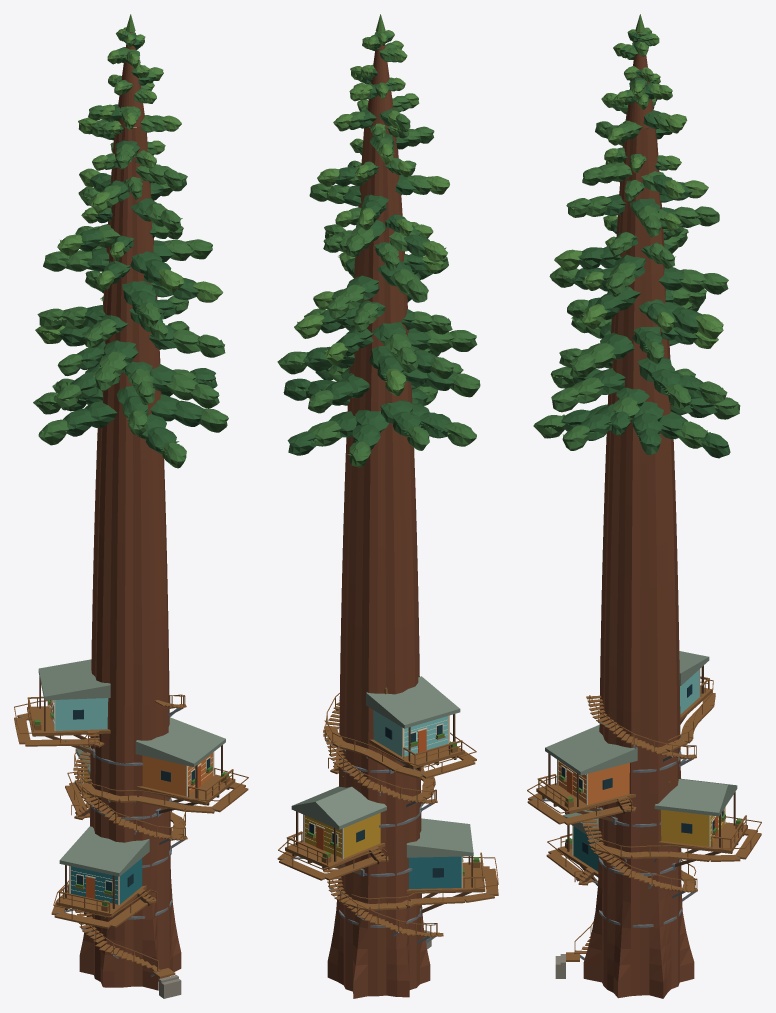
The model's file is village_tree_low.glb.
3 renders of one model, left to right at view 1: azimuth 30°, elevation 25°; view 2: azimuth 150°, elevation 25°; view 3: azimuth 270°, elevation 25°, orthographic.
Visible parts, largest first — view 1: village_tree_low; view 2: village_tree_low; view 3: village_tree_low.
Boxes of the visible parts, box(x1,y1,x2,y2) form: village_tree_low: box(14, 14, 248, 998); village_tree_low: box(277, 14, 498, 998); village_tree_low: box(527, 14, 761, 998).
Size of the model in its own units: 19.94 by 94.2 by 20.8.
